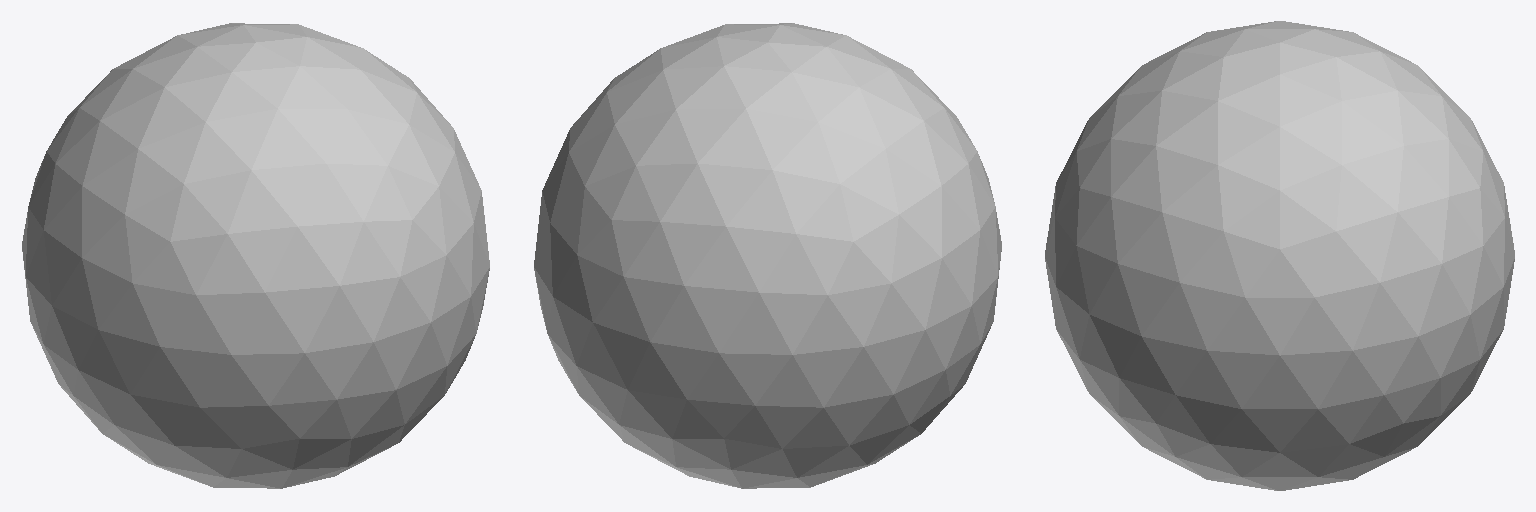
The model's file is ico_sphere.obj.
3 renders of one model, left to right at view 1: azimuth 30°, elevation 25°; view 2: azimuth 150°, elevation 25°; view 3: azimuth 270°, elevation 25°, orthographic.
Visible parts, largest first — view 1: Icosphere.001; view 2: Icosphere.001; view 3: Icosphere.001.
Part boxes in pixels (x1,y1,x2,y2): Icosphere.001: (22,23,489,488); Icosphere.001: (534,23,1001,488); Icosphere.001: (1045,21,1514,490).
Size of the model in its own units: 0.3591 by 0.3591 by 0.3591.